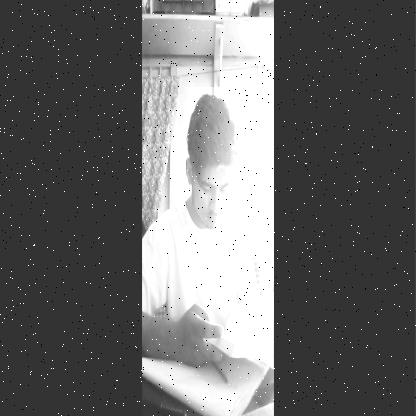Distracted: (187, 88, 236, 232)
